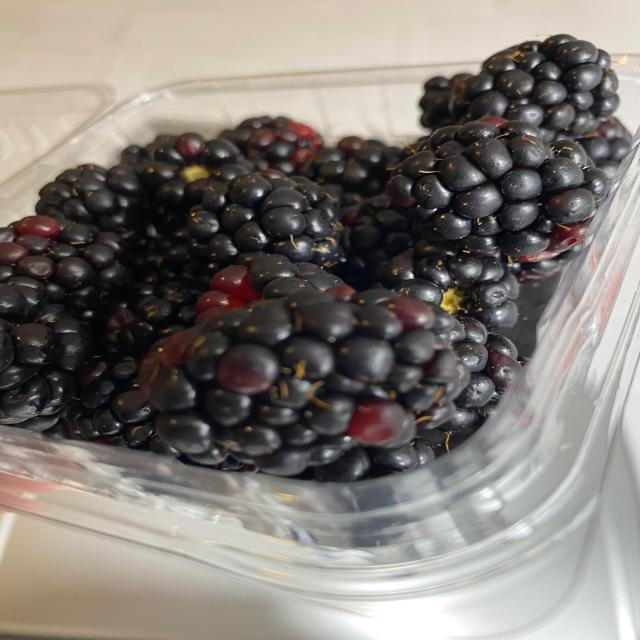blackberries: (9, 38, 627, 482)
